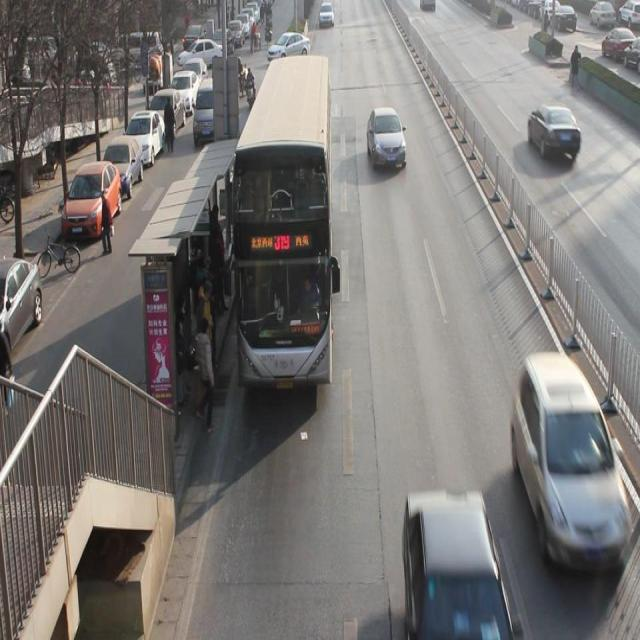car: (514, 356, 625, 568), (526, 106, 583, 161), (367, 110, 407, 176)
van: (231, 56, 333, 384)
